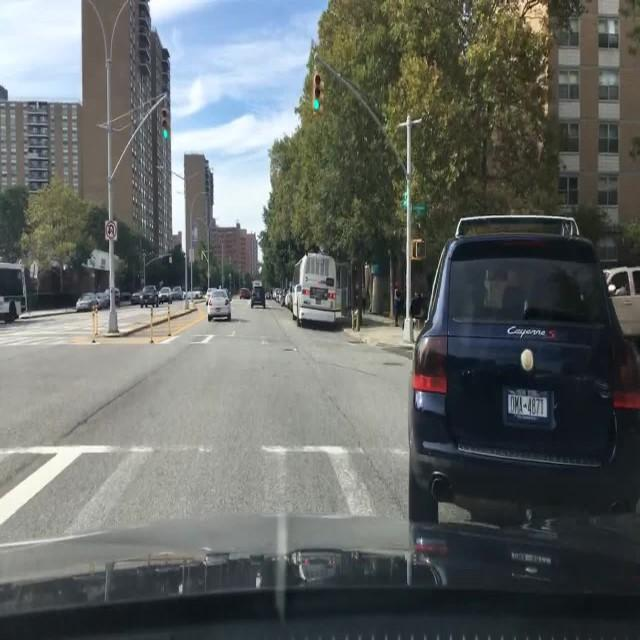normal: (402, 212, 635, 621), (287, 251, 341, 326), (75, 289, 121, 310), (206, 289, 232, 321), (131, 285, 159, 306), (158, 287, 174, 303)
